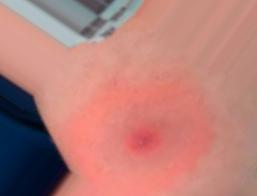Tick: (76, 79, 208, 190)
